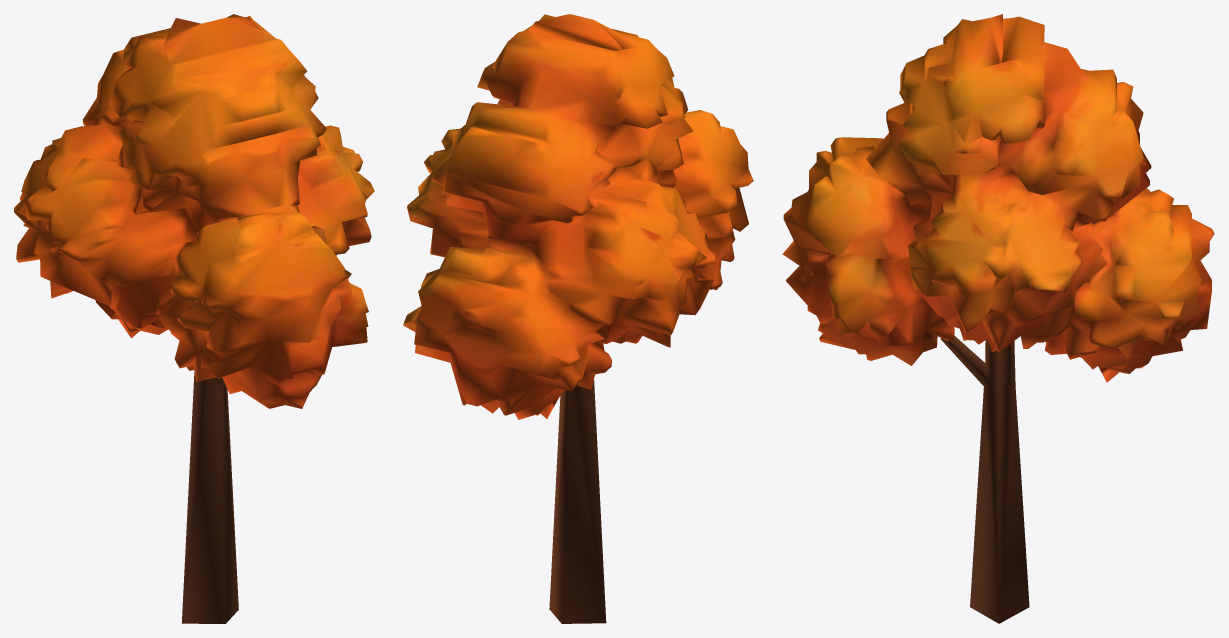
The model's file is tree-b-DMwlxgDf.glb.
3 views of the same model, side by side, from view 1: azimuth 30°, elevation 25°; view 2: azimuth 150°, elevation 25°; view 3: azimuth 270°, elevation 25° (orthographic). The views are drawn at different scales.
Visible parts, largest first — view 1: tripo_node_2078c1b0-4f23-4e3c-ac12-8bafced8b75a; view 2: tripo_node_2078c1b0-4f23-4e3c-ac12-8bafced8b75a; view 3: tripo_node_2078c1b0-4f23-4e3c-ac12-8bafced8b75a.
Boxes of the visible parts, x1,y1,x2,y2 form: tripo_node_2078c1b0-4f23-4e3c-ac12-8bafced8b75a: (14,14,374,623); tripo_node_2078c1b0-4f23-4e3c-ac12-8bafced8b75a: (403,14,753,623); tripo_node_2078c1b0-4f23-4e3c-ac12-8bafced8b75a: (782,14,1214,623).
Size of the model in its own units: 0.5225 by 1 by 0.6673.
Materials: 1 (1 with a texture image).
